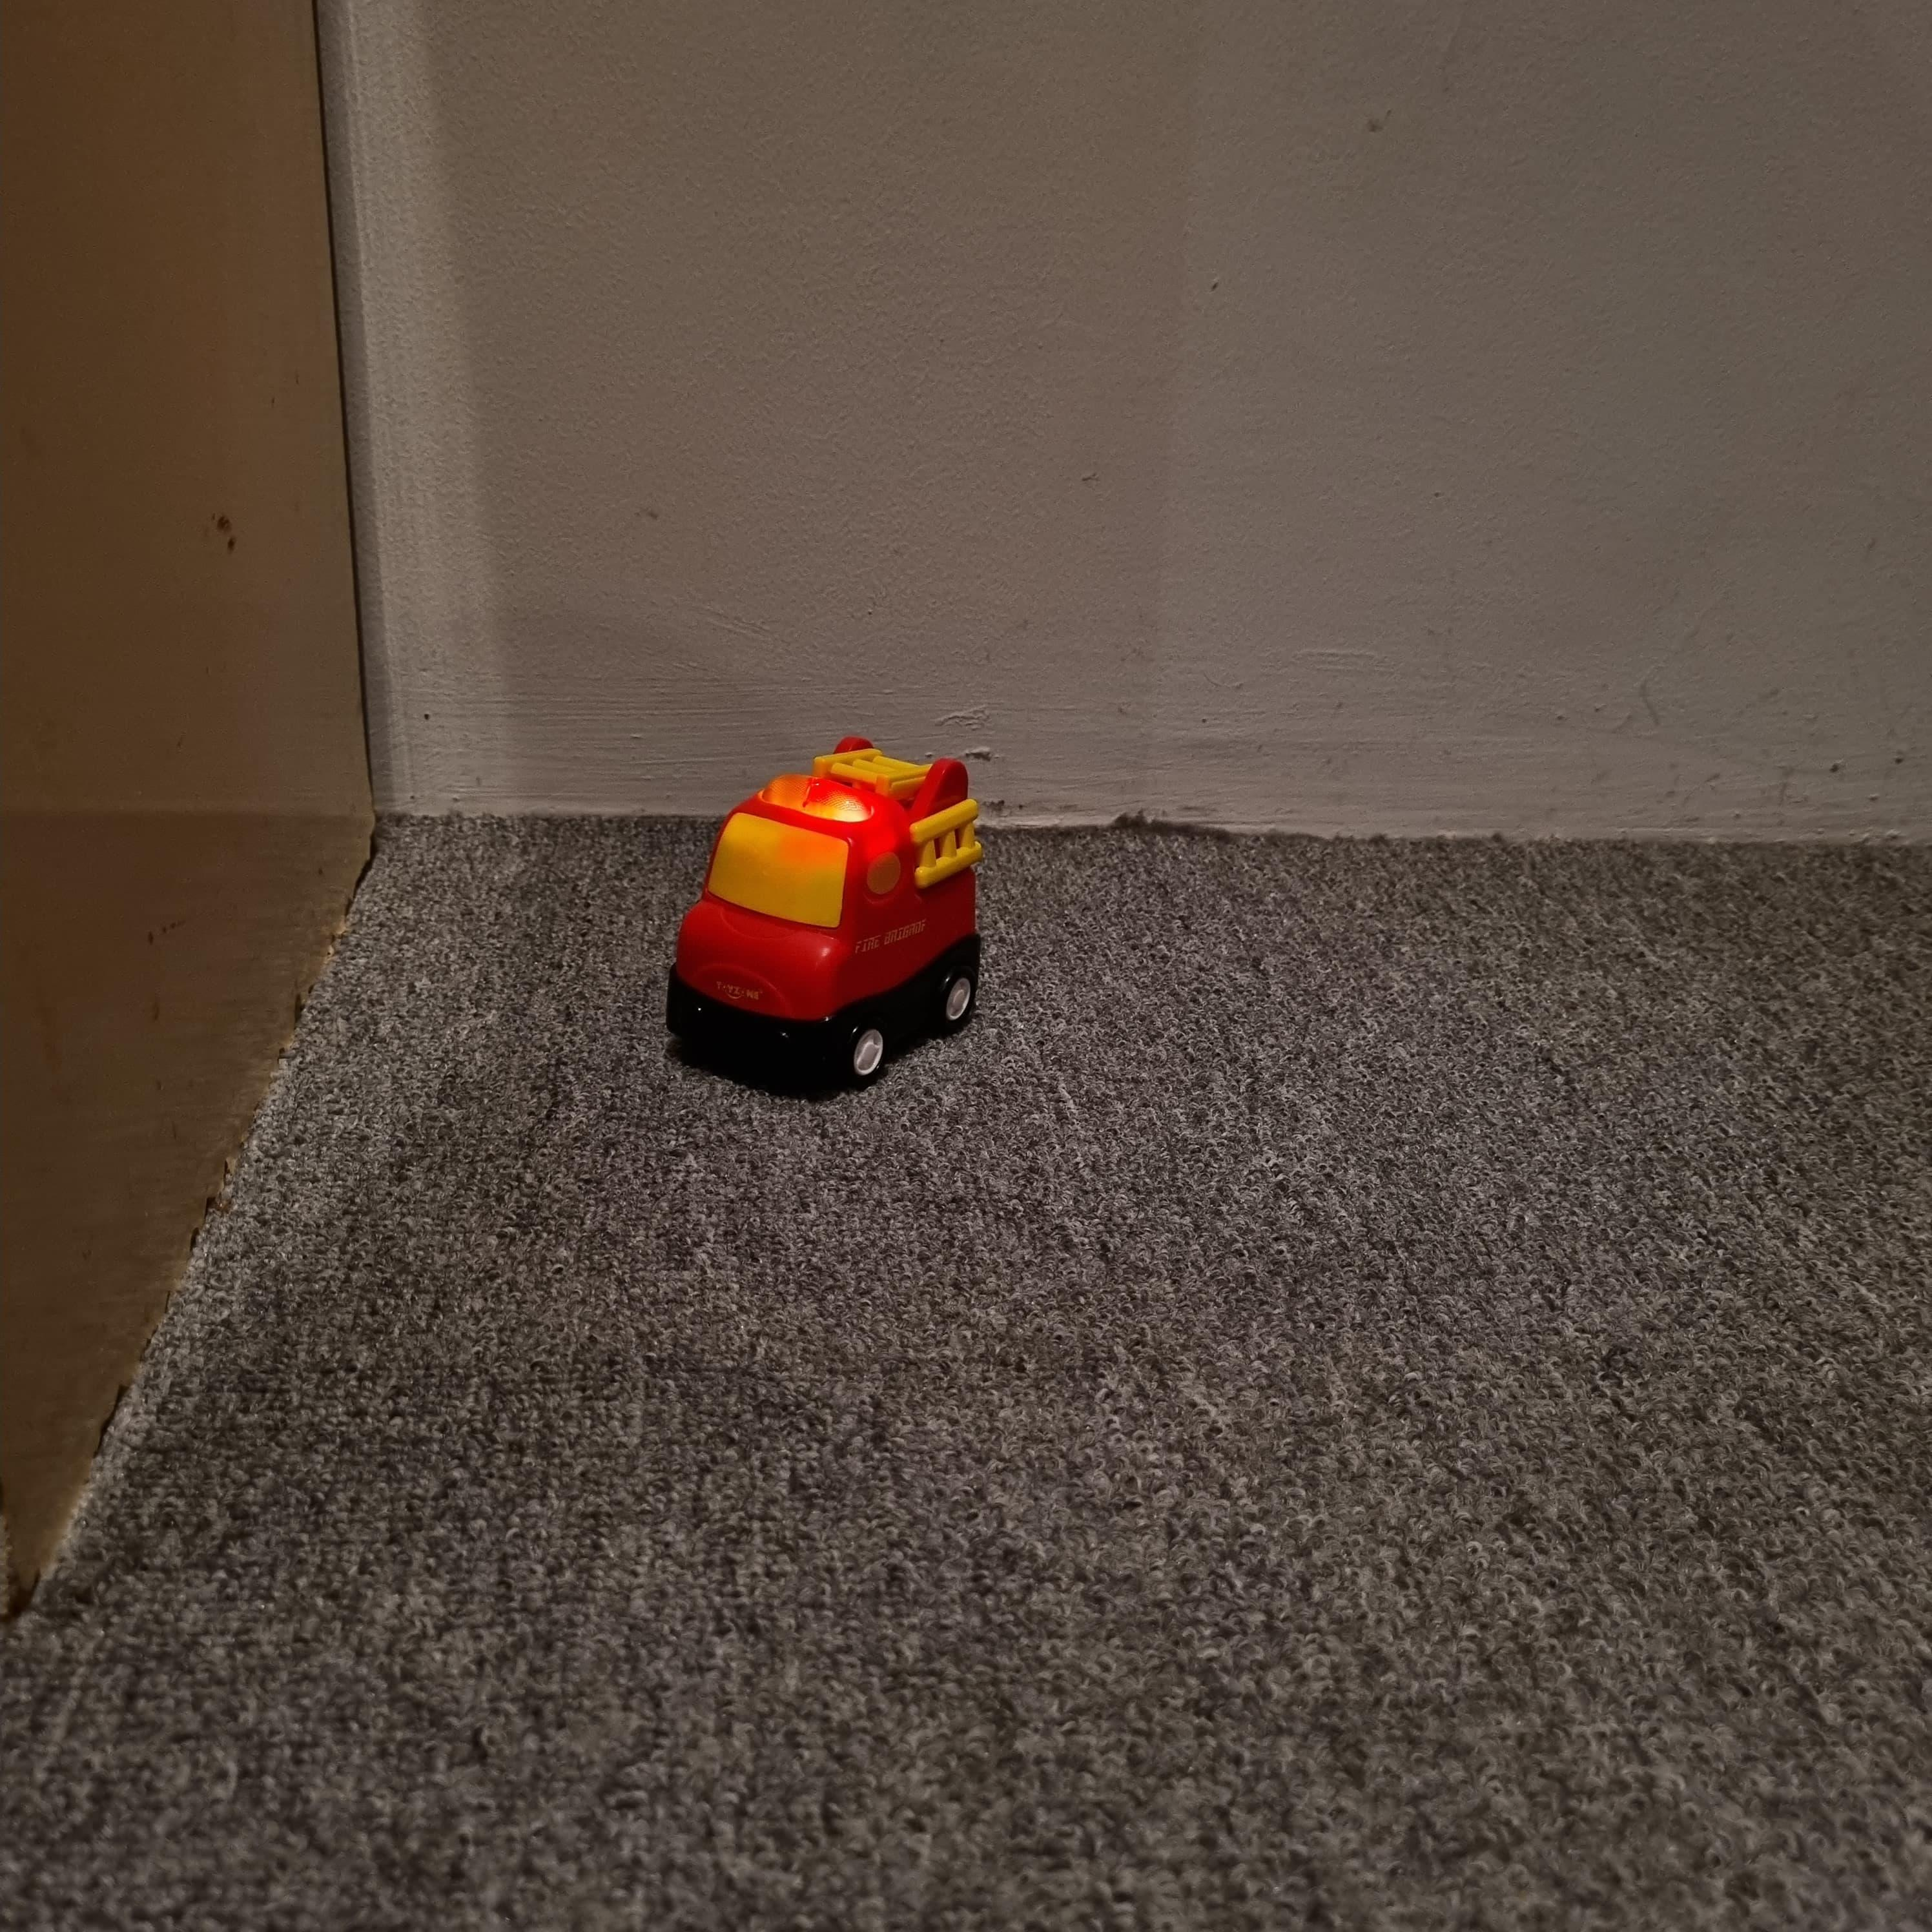firetruck_on: (672, 736, 985, 1090)
